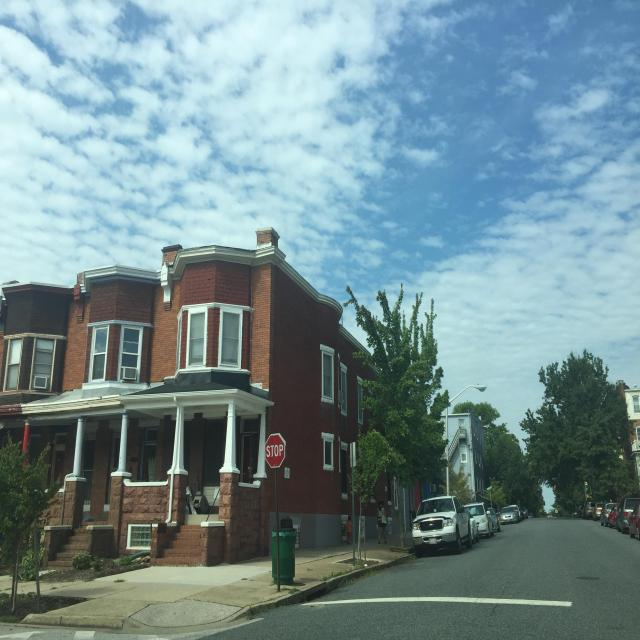Good: (576, 572, 600, 581)
